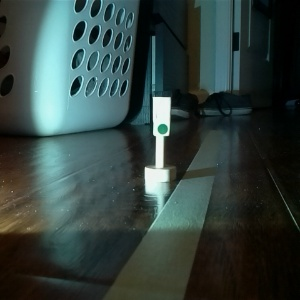traffic light green: (142, 89, 177, 186)
